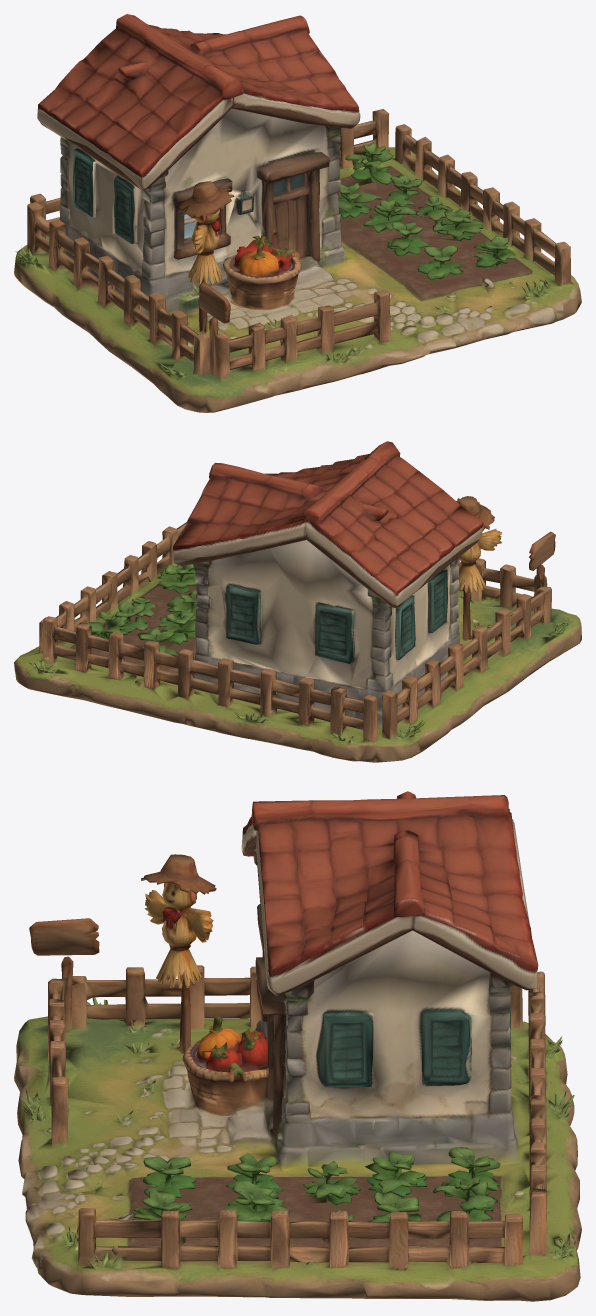
Rendered from bld_house.glb.
3 views of the same model, one above another, from view 1: azimuth 30°, elevation 25°; view 2: azimuth 150°, elevation 25°; view 3: azimuth 270°, elevation 25° (orthographic). The views are drawn at different scales.
Parts seen in each view (by area): view 1: tripo_node_46f0e6d2-ae7f-45a1-97de-f72ed1f834cb; view 2: tripo_node_46f0e6d2-ae7f-45a1-97de-f72ed1f834cb; view 3: tripo_node_46f0e6d2-ae7f-45a1-97de-f72ed1f834cb.
Boxes of the visible parts, left/top/right/bottom form: tripo_node_46f0e6d2-ae7f-45a1-97de-f72ed1f834cb: left=14, top=14, right=581, bottom=412; tripo_node_46f0e6d2-ae7f-45a1-97de-f72ed1f834cb: left=14, top=441, right=581, bottom=762; tripo_node_46f0e6d2-ae7f-45a1-97de-f72ed1f834cb: left=14, top=791, right=581, bottom=1301.
Bounding box in the file's own units: 0.9989 × 0.5481 × 0.8879.
1 material, 1 textured.
